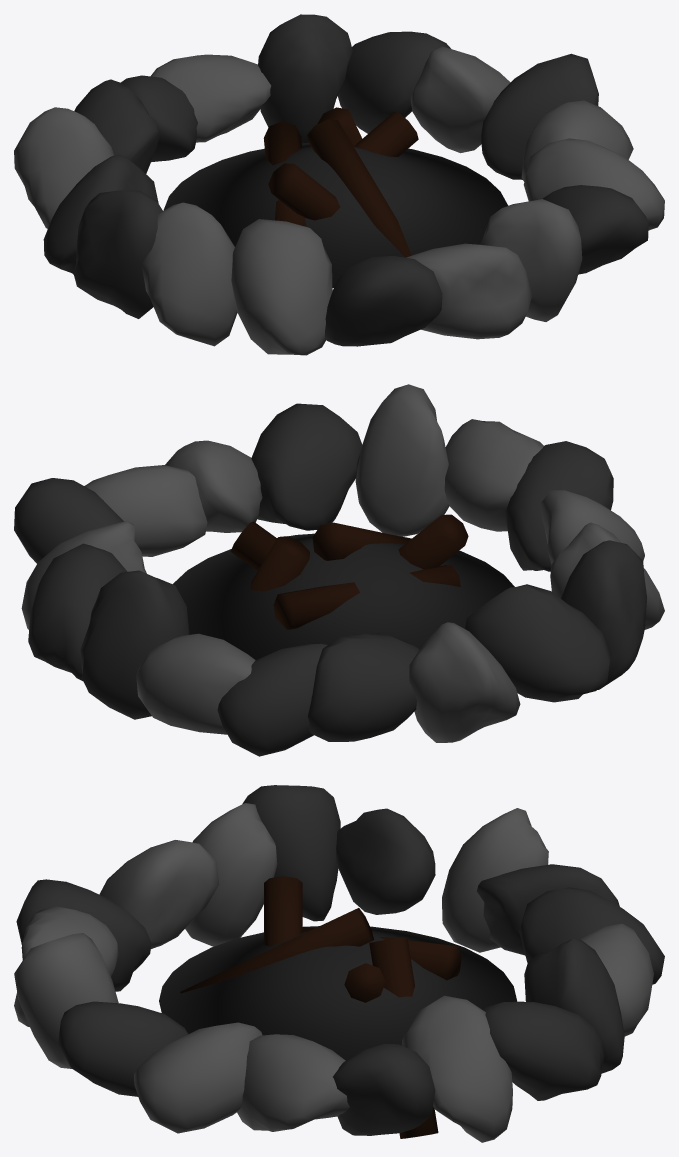
File: camp fire pit.fbx
3 renders of one model, top to bottom at view 1: azimuth 30°, elevation 25°; view 2: azimuth 150°, elevation 25°; view 3: azimuth 270°, elevation 25°, orthographic. The views are drawn at different scales.
Parts seen in each view (by area): view 1: Cube; view 2: Cube; view 3: Cube.
Part boxes in pixels (x1=…): Cube: x1=14, y1=14, x2=664, y2=355; Cube: x1=14, y1=384, x2=664, y2=756; Cube: x1=14, y1=785, x2=664, y2=1142.
Bounding box in the file's own units: 137 × 134 × 44.66.
